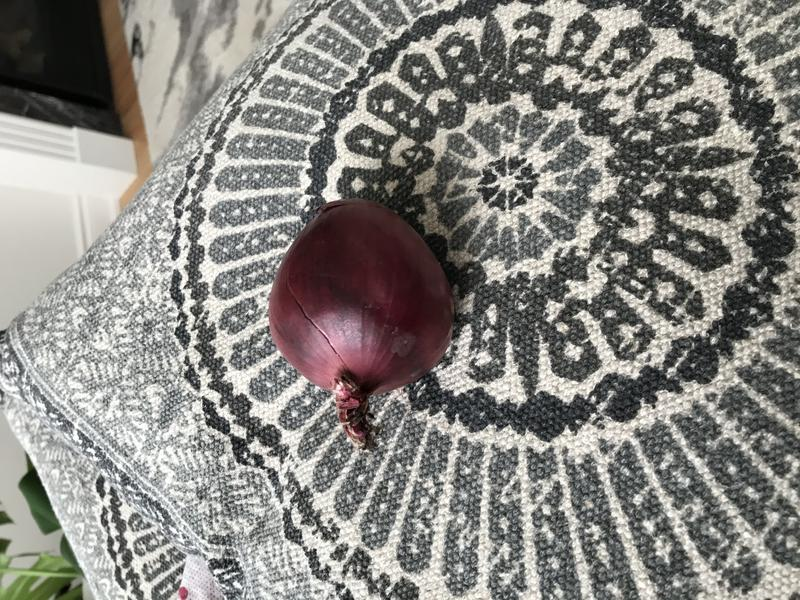purple_onion: (262, 188, 470, 461)
